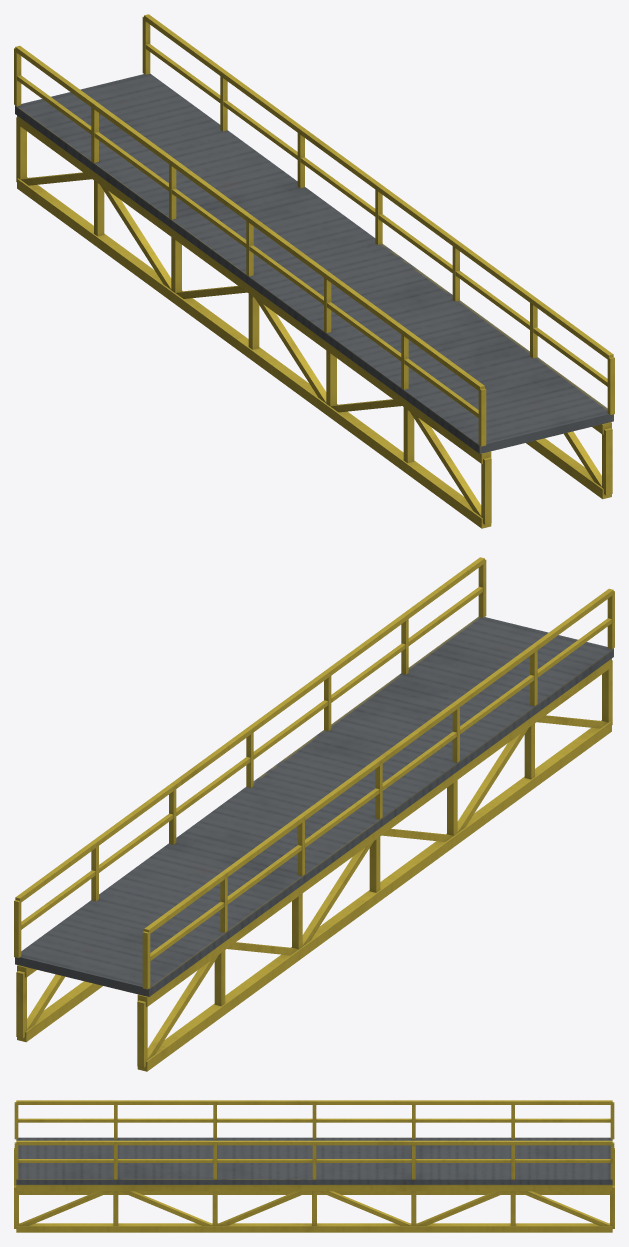
Rendered from gangway.fbx.
3 views of the same model, one above another, from view 1: azimuth 30°, elevation 25°; view 2: azimuth 150°, elevation 25°; view 3: azimuth 270°, elevation 25° (orthographic). The views are drawn at different scales.
Parts seen in each view (by area): view 1: gangway; view 2: gangway; view 3: gangway.
Part boxes in pixels (x1=…): gangway: x1=14, y1=14, x2=614, y2=528; gangway: x1=14, y1=557, x2=614, y2=1071; gangway: x1=14, y1=1100, x2=614, y2=1232.
Size of the model in its own units: 10 by 10.13 by 60.5.
1 material, 1 textured.
